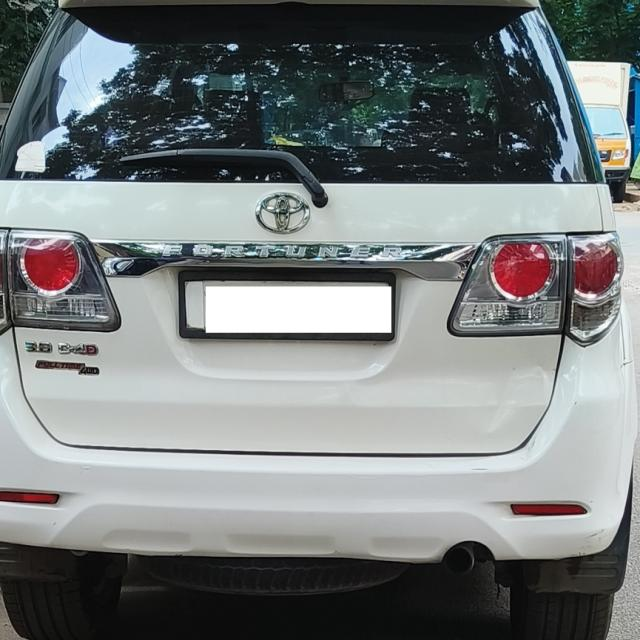scratch: (572, 518, 614, 562)
